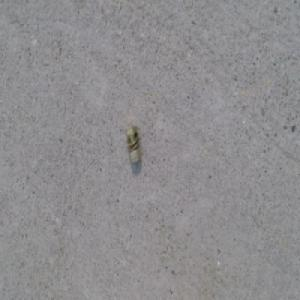BoltNutSet: (125, 126, 142, 164)
